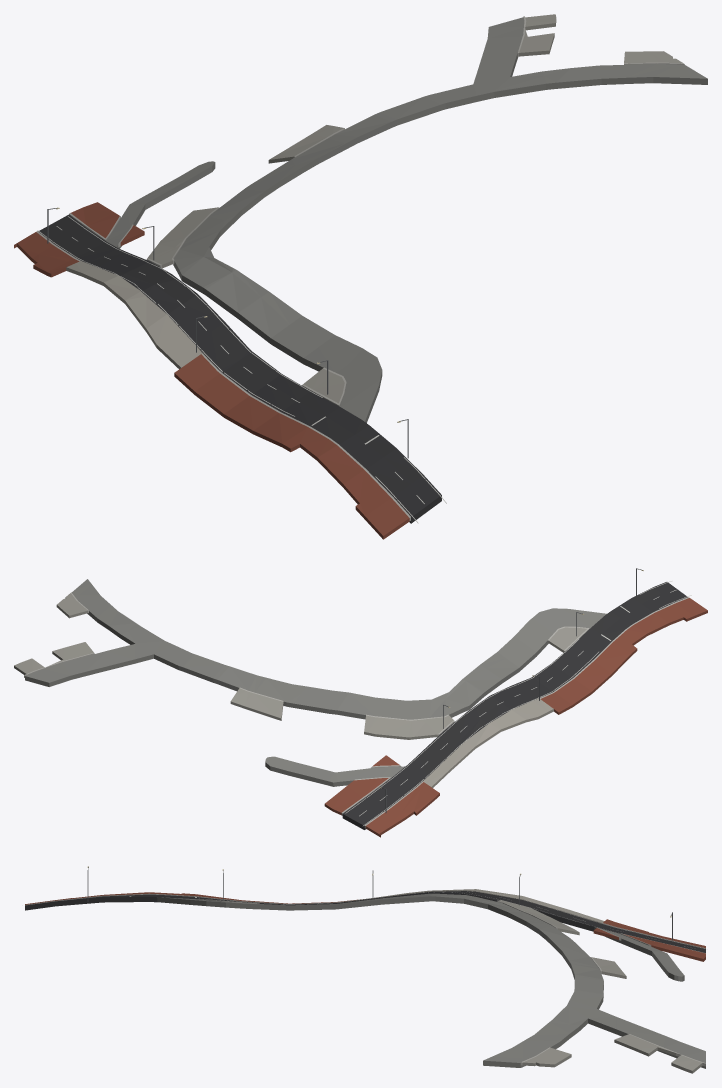
The picture shows the model from 3 angles, top to bottom: view 1: azimuth 30°, elevation 25°; view 2: azimuth 150°, elevation 25°; view 3: azimuth 270°, elevation 25°; orthographic projection. The views are drawn at different scales.
Bounding box in the file's own units: 122 × 25.8 × 149.
